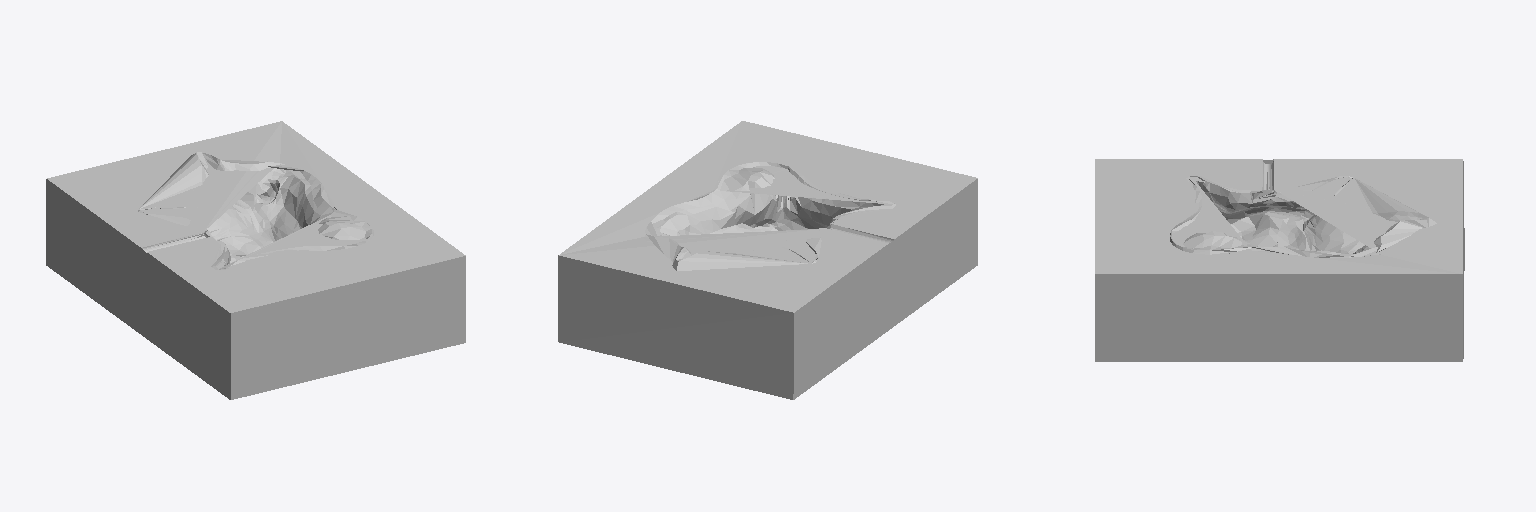
File: mold_with_clay.obj
3 views of the same model, side by side, from view 1: azimuth 30°, elevation 25°; view 2: azimuth 150°, elevation 25°; view 3: azimuth 270°, elevation 25° (orthographic).
Visible parts, largest first — view 1: Mold_Cube.001; view 2: Mold_Cube.001; view 3: Mold_Cube.001.
Part boxes in pixels (left/top/right/bottom): Mold_Cube.001: left=46, top=121, right=465, bottom=399; Mold_Cube.001: left=558, top=121, right=977, bottom=399; Mold_Cube.001: left=1095, top=159, right=1464, bottom=361.
Size of the model in its own units: 0.34 by 0.1323 by 0.4616.